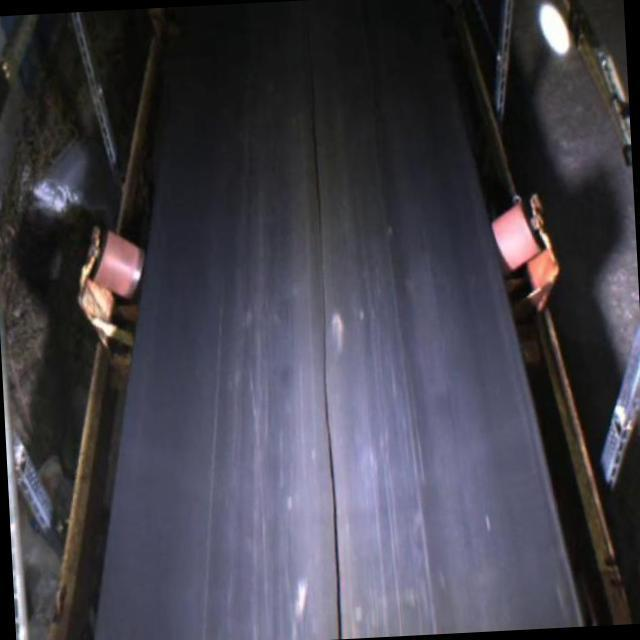Tear: (312, 313, 349, 640), (301, 70, 335, 264)
